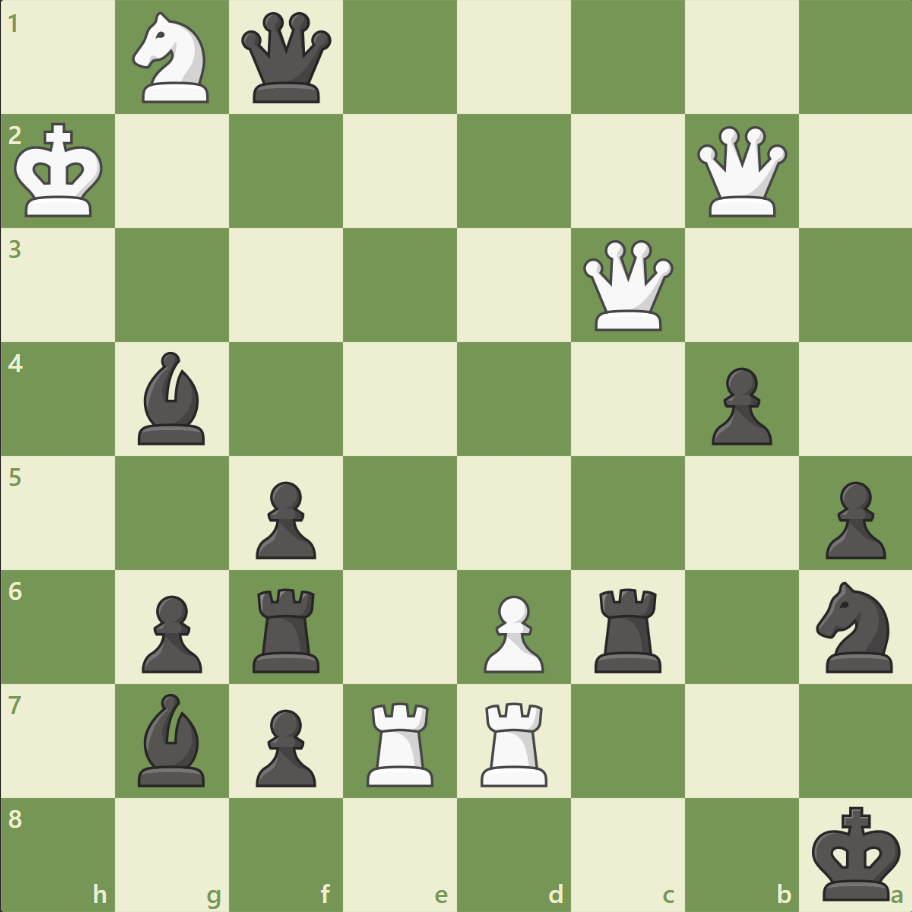K: (11, 117, 111, 225)
N: (124, 7, 222, 110)
P: (474, 586, 549, 677)
Q: (691, 122, 790, 222), (578, 236, 677, 335)
R: (473, 693, 556, 790), (360, 693, 442, 790)
b: (131, 687, 215, 790), (131, 347, 215, 449)
k: (806, 798, 906, 906)
n: (806, 575, 903, 677)
p: (247, 700, 322, 791), (133, 586, 208, 677), (247, 473, 322, 564), (701, 359, 776, 450), (815, 473, 889, 564)
q: (237, 9, 336, 108)
r: (587, 579, 670, 676), (246, 579, 329, 676)
